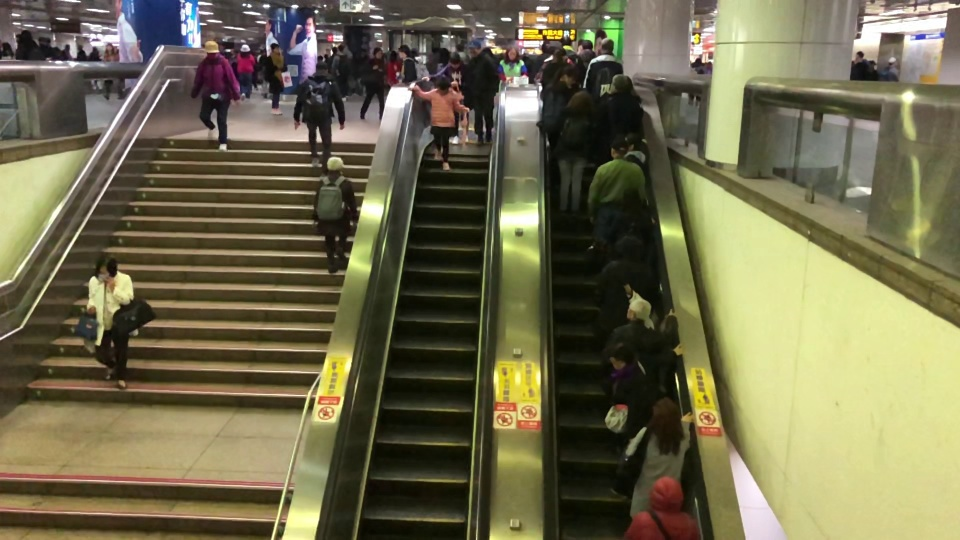person_head: (647, 474, 683, 512), (649, 395, 681, 437), (614, 235, 647, 262), (608, 341, 635, 370), (93, 254, 119, 281), (625, 298, 652, 323), (566, 90, 595, 112), (609, 72, 633, 95), (621, 185, 643, 210), (608, 135, 629, 158), (325, 154, 345, 178), (199, 38, 220, 60), (624, 132, 643, 155), (556, 65, 577, 85), (436, 73, 451, 95), (553, 46, 570, 64), (504, 44, 520, 62), (447, 51, 463, 69), (467, 38, 481, 57), (18, 28, 33, 43), (600, 37, 614, 53), (581, 38, 594, 55), (314, 60, 329, 74), (540, 42, 555, 56), (398, 43, 411, 59), (269, 41, 281, 56), (560, 34, 573, 47), (239, 42, 251, 56), (372, 46, 384, 59), (854, 50, 864, 63), (887, 55, 897, 68), (388, 49, 399, 60), (105, 42, 114, 54), (330, 46, 339, 54), (694, 57, 701, 65), (338, 45, 344, 53)
person_vbox: (603, 336, 684, 494), (78, 250, 138, 389), (626, 398, 694, 520), (536, 88, 597, 218), (584, 138, 648, 252), (595, 233, 661, 338), (292, 60, 345, 180), (600, 296, 679, 376), (189, 38, 242, 152), (406, 74, 468, 171), (311, 155, 359, 273), (625, 476, 698, 540), (420, 53, 469, 145), (596, 75, 646, 150), (465, 36, 498, 146), (600, 187, 653, 247), (540, 66, 579, 142), (580, 37, 625, 96), (358, 44, 388, 121), (263, 41, 289, 116), (533, 42, 574, 82), (498, 45, 529, 93), (100, 40, 124, 101), (621, 127, 650, 177), (233, 42, 256, 101), (331, 43, 353, 101), (542, 46, 569, 84), (687, 53, 705, 109), (13, 29, 43, 62), (395, 43, 418, 86), (383, 49, 403, 89), (576, 38, 596, 78), (850, 48, 873, 79), (878, 56, 901, 82), (559, 37, 579, 60), (325, 45, 341, 72)
